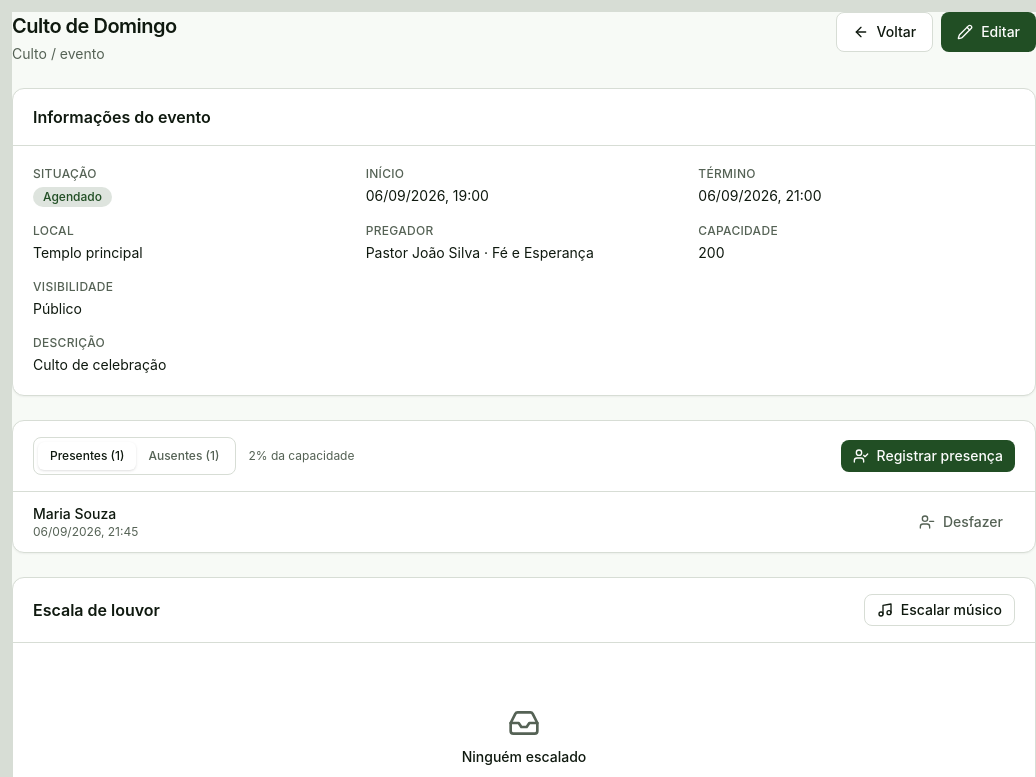
Test: ScheduleDetailPage — Presença e Ausentes › alterna para a aba de ausentes e exibe os faltosos com ações rápidas
The image size is (1036, 777).
Click the button "Ausentes (1)": (184, 456) top-left (136, 442), bottom-right (231, 470)
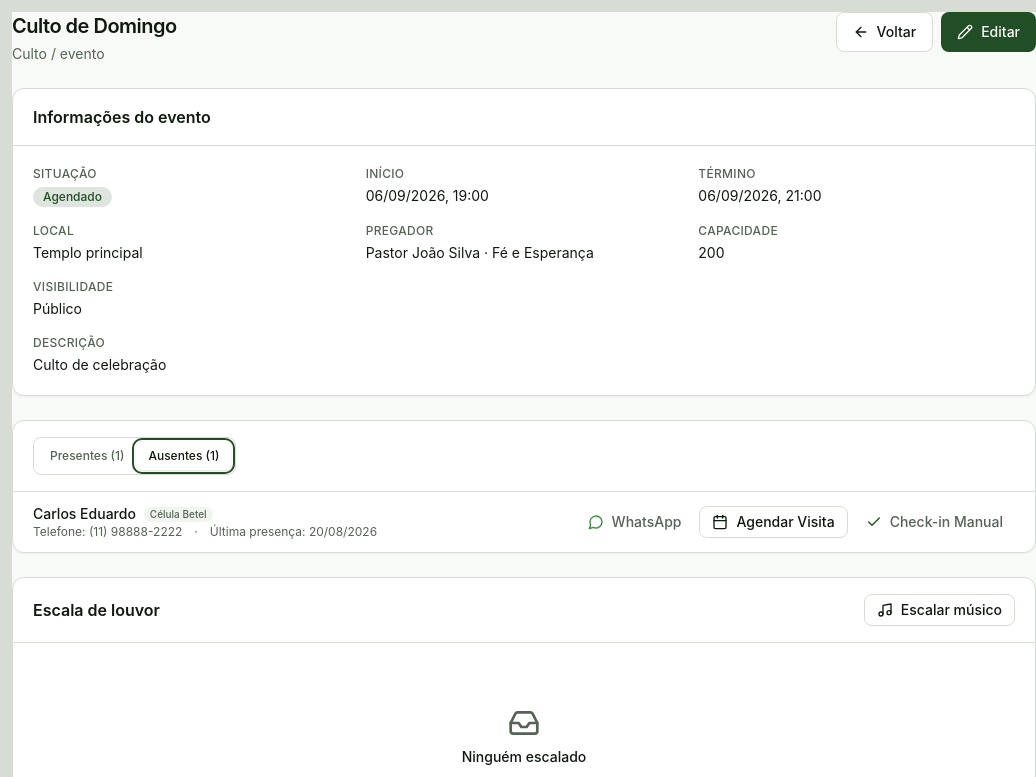
Result: the link "Carlos Eduardo" is shown at top-left (33, 504), bottom-right (136, 524)
Result: the text "Célula Betel" is shown at top-left (144, 506), bottom-right (213, 522)
Result: the link with aria-label "Enviar mensagem no WhatsApp para Carlos Eduardo" is shown at top-left (588, 513), bottom-right (681, 530)
